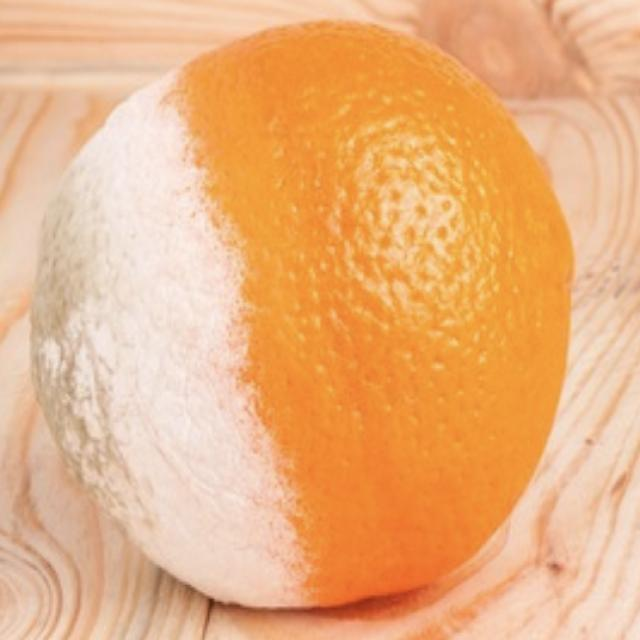sedikit-busuk: (32, 22, 572, 606)
